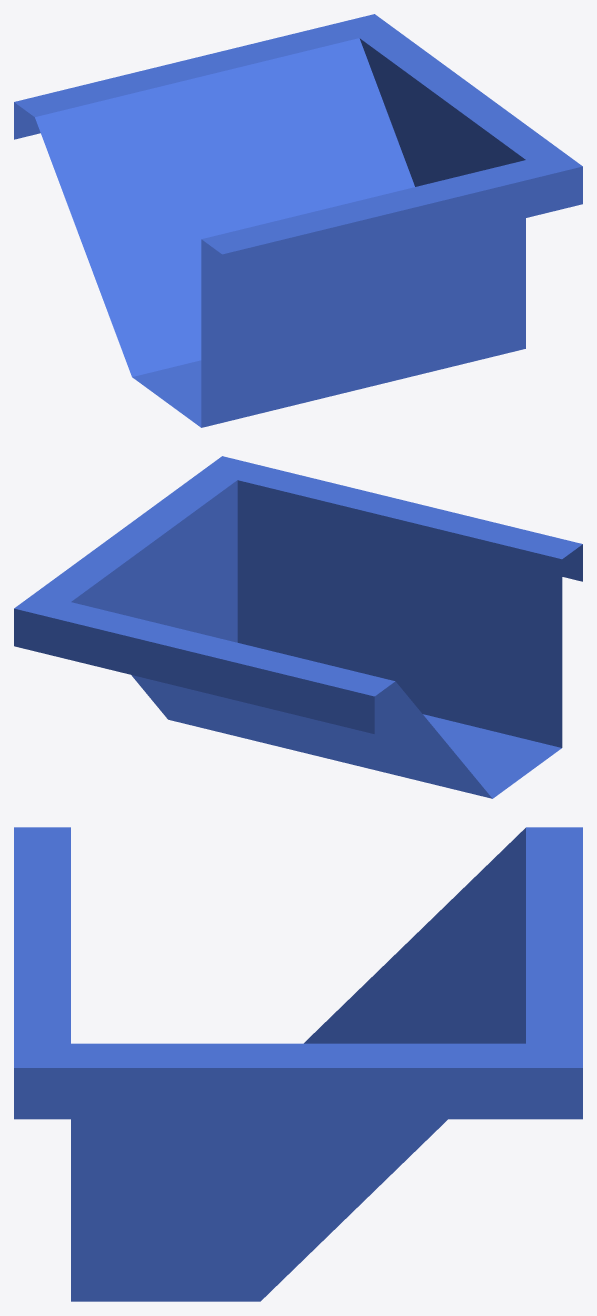
Rendered from Ceiling_1x1m_A_End.FBX.
3 views of the same model, one above another, from view 1: azimuth 30°, elevation 25°; view 2: azimuth 150°, elevation 25°; view 3: azimuth 270°, elevation 25° (orthographic). The views are drawn at different scales.
Visible parts, largest first — view 1: Ceiling_1x1m_A_End; view 2: Ceiling_1x1m_A_End; view 3: Ceiling_1x1m_A_End.
Boxes of the visible parts, x1,y1,x2,y2 form: Ceiling_1x1m_A_End: (14, 14, 582, 427); Ceiling_1x1m_A_End: (14, 456, 582, 798); Ceiling_1x1m_A_End: (14, 827, 582, 1301).
Bounding box in the file's own units: 100 × 50 × 100.
